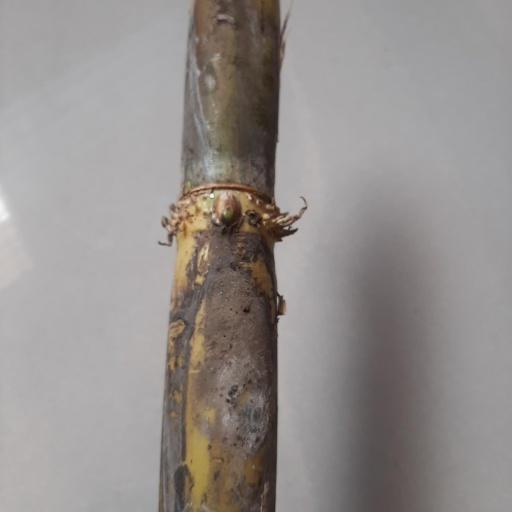Bud: (212, 189, 243, 231)
